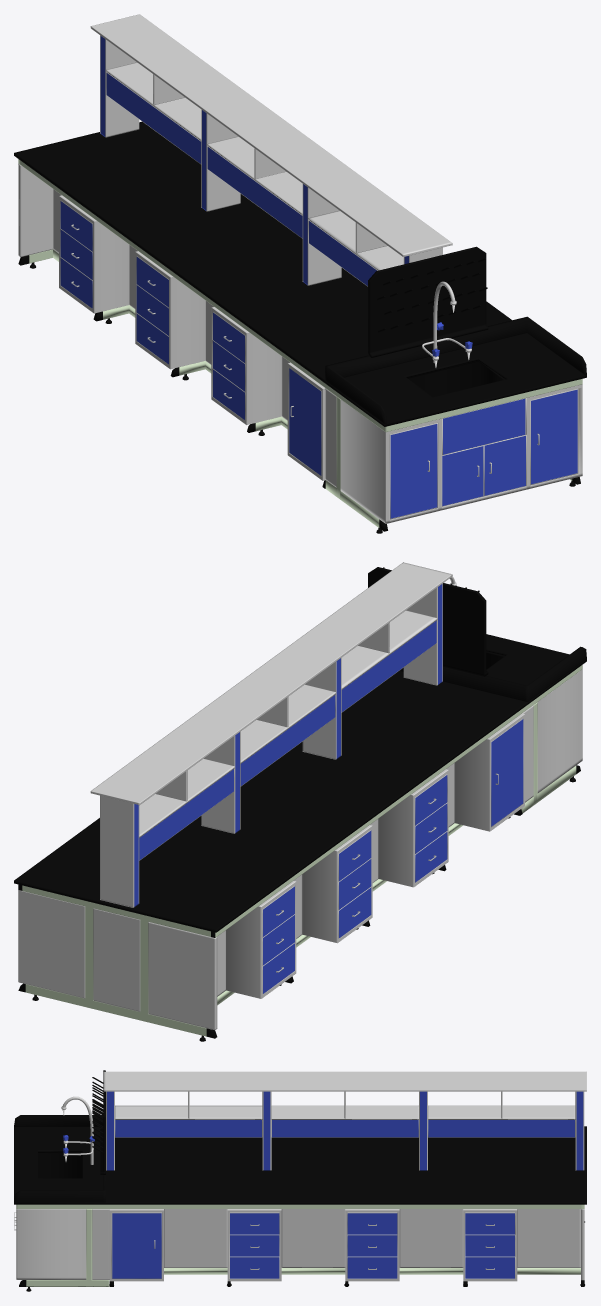
3 views of the same model, one above another, from view 1: azimuth 30°, elevation 25°; view 2: azimuth 150°, elevation 25°; view 3: azimuth 270°, elevation 25° (orthographic). The views are drawn at different scales.
Visible parts, largest first — view 1: desktop2.019, desktop2.001, desktop2.064, desktop2.061, desktop2.063, desktop2.068, desktop2.072, desktop2.054, desktop2.049, desktop2.043, desktop2.020, desktop2.069 (+27 smaller); view 2: desktop2.019, desktop2.001, desktop2.020, desktop2.021, desktop2.024, desktop2.023, desktop2.061, desktop2.003, desktop2.064, desktop2.043, desktop2.049, desktop2.054 (+23 smaller); view 3: desktop2.019, desktop2.001, desktop2.061, desktop2.035, desktop2.030, desktop2.040, desktop2.025, desktop2.041, desktop2.020, desktop2.018, desktop2.012, desktop2.006 (+27 smaller).
Boxes of the visible parts, left/top/right/bottom form: desktop2.019: left=14, top=121, right=586, bottom=426; desktop2.001: left=90, top=14, right=452, bottom=256; desktop2.064: left=368, top=246, right=488, bottom=357; desktop2.061: left=340, top=384, right=582, bottom=523; desktop2.063: left=325, top=316, right=586, bottom=423; desktop2.068: left=530, top=388, right=578, bottom=485; desktop2.072: left=390, top=423, right=437, bottom=519; desktop2.054: left=211, top=307, right=281, bottom=424; desktop2.049: left=135, top=251, right=205, bottom=369; desktop2.043: left=59, top=195, right=129, bottom=313; desktop2.020: left=18, top=159, right=582, bottom=432; desktop2.069: left=442, top=398, right=526, bottom=455; desktop2.019: left=14, top=634, right=586, bottom=932; desktop2.001: left=90, top=562, right=452, bottom=805; desktop2.020: left=18, top=665, right=582, bottom=1038; desktop2.021: left=148, top=922, right=217, bottom=1030; desktop2.024: left=18, top=890, right=85, bottom=998; desktop2.023: left=93, top=908, right=140, bottom=1011; desktop2.061: left=537, top=669, right=582, bottom=793; desktop2.003: left=100, top=795, right=139, bottom=907; desktop2.064: left=368, top=567, right=488, bottom=676; desktop2.043: left=226, top=881, right=296, bottom=998; desktop2.049: left=302, top=825, right=372, bottom=943; desktop2.054: left=378, top=769, right=448, bottom=887; desktop2.019: left=14, top=1126, right=586, bottom=1204; desktop2.001: left=103, top=1071, right=586, bottom=1091; desktop2.061: left=16, top=1209, right=86, bottom=1279; desktop2.035: left=281, top=1209, right=345, bottom=1267; desktop2.030: left=399, top=1209, right=463, bottom=1267; desktop2.040: left=164, top=1209, right=227, bottom=1267; desktop2.025: left=517, top=1209, right=580, bottom=1267; desktop2.041: left=111, top=1212, right=161, bottom=1278; desktop2.020: left=16, top=1204, right=584, bottom=1286; desktop2.018: left=115, top=1120, right=262, bottom=1137; desktop2.012: left=271, top=1120, right=418, bottom=1137; desktop2.006: left=428, top=1120, right=575, bottom=1137.
Size of the model in its own units: 154 by 159 by 476.
